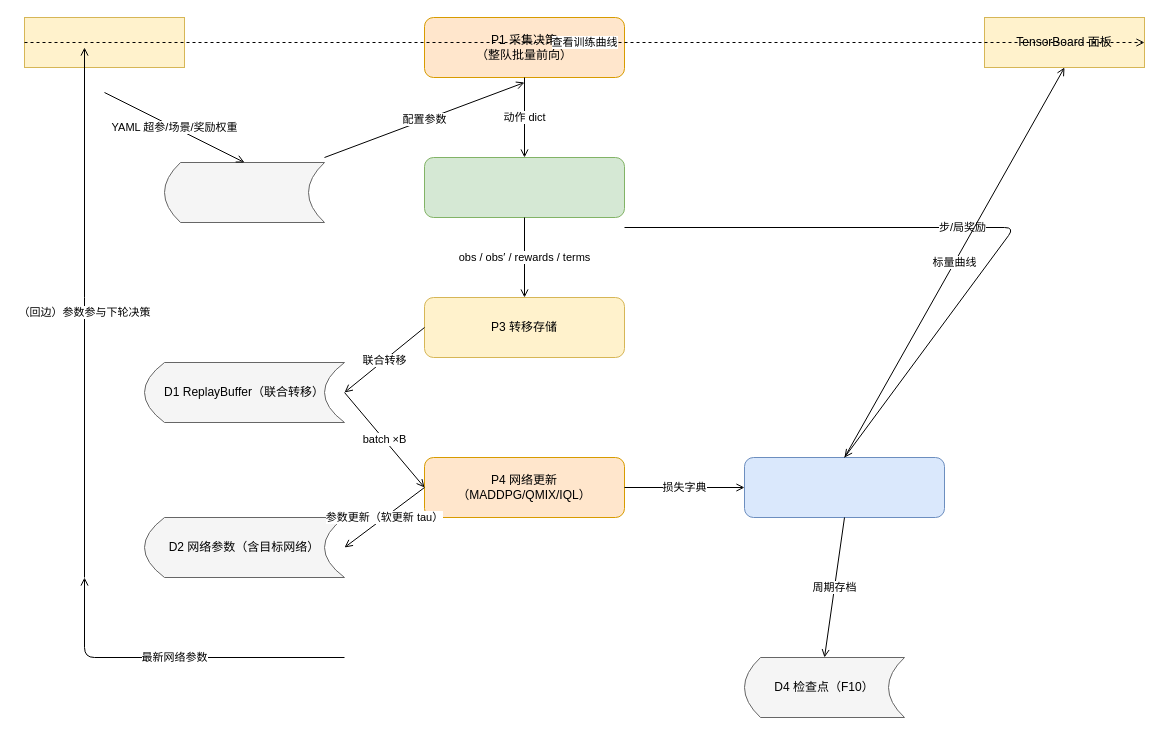
Image size: 1170x735. Some labels were removed from this diagram. The shapes that lost their labels are listed below. From the top down, each one's centre as x and y in pixels, then its label:
At point (104, 42): "研究者".
At point (244, 192): "D3 配置（YAML）".
At point (524, 187): "P2 环境物理推进 （足球规则/奖励事件）".
At point (844, 487): "P5 指标记录 （TensorBoard）".
